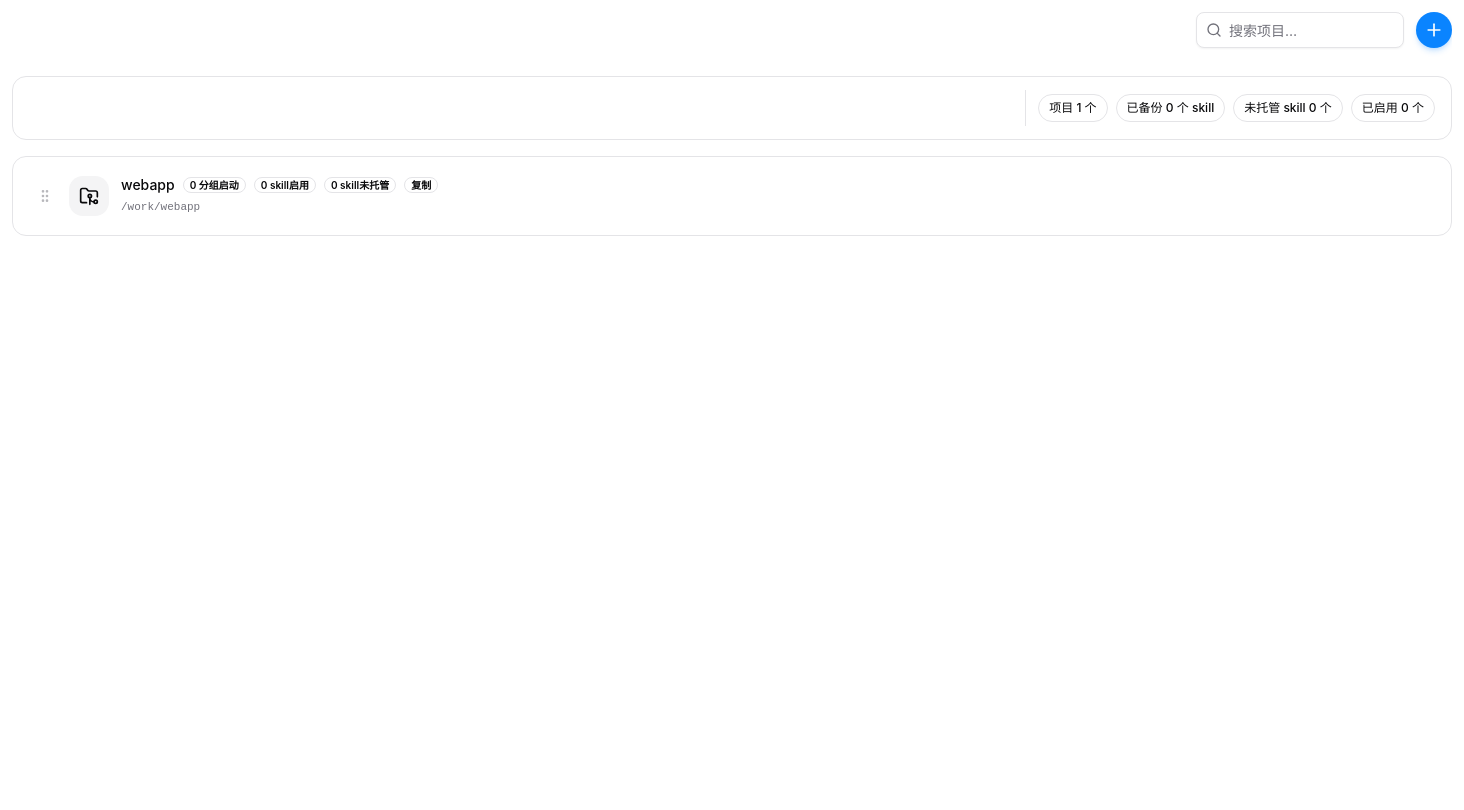
Scenario: shows repository skills without adding them to Hub bindings
Click the button "webapp" at coordinates (148, 185), box [121,175,175,195]
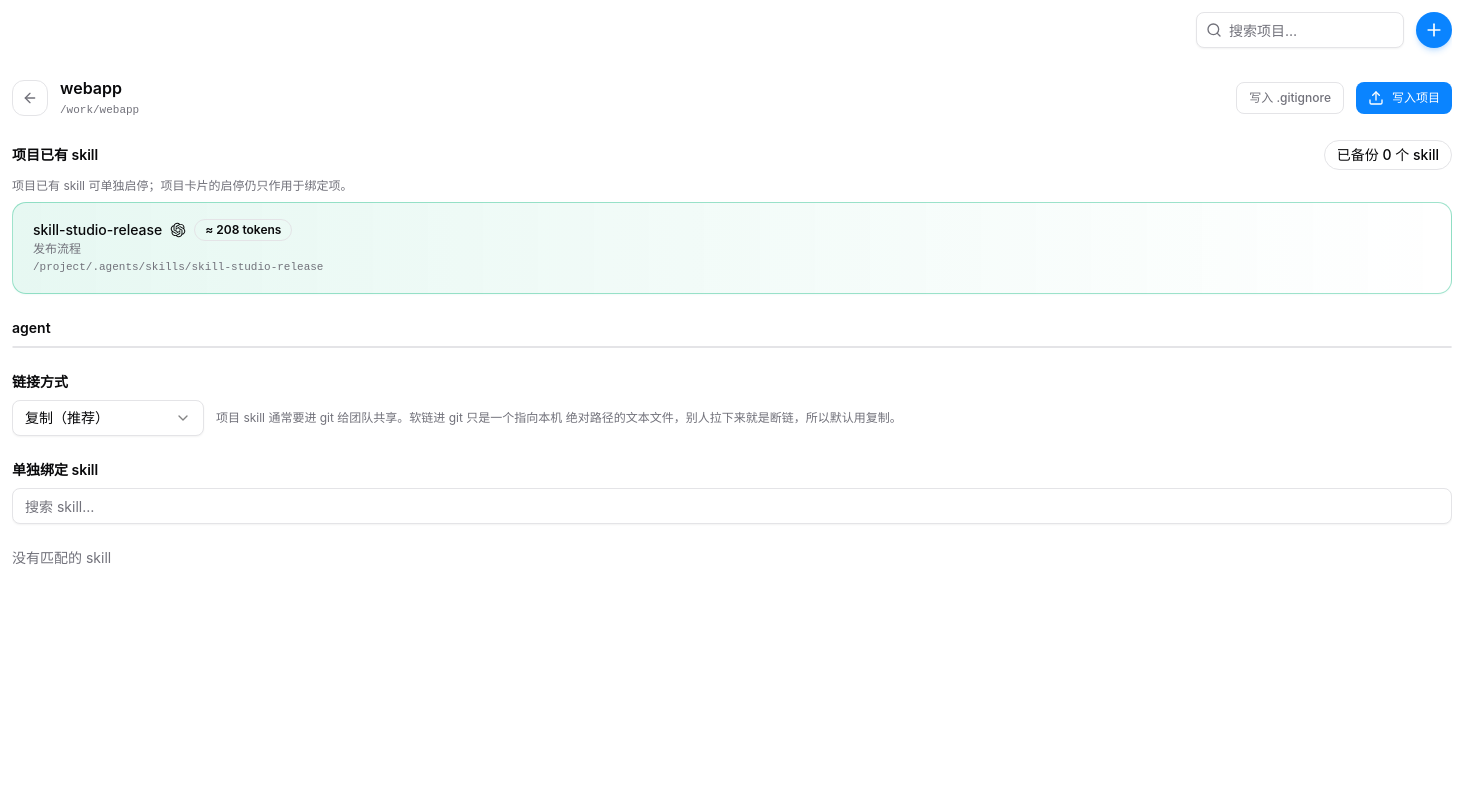
Now the text "skill-studio-release" is shown, box [33,220,162,240]
Now the text "/project/.agents/skills/skill-studio-release" is shown, box [33,261,324,273]
